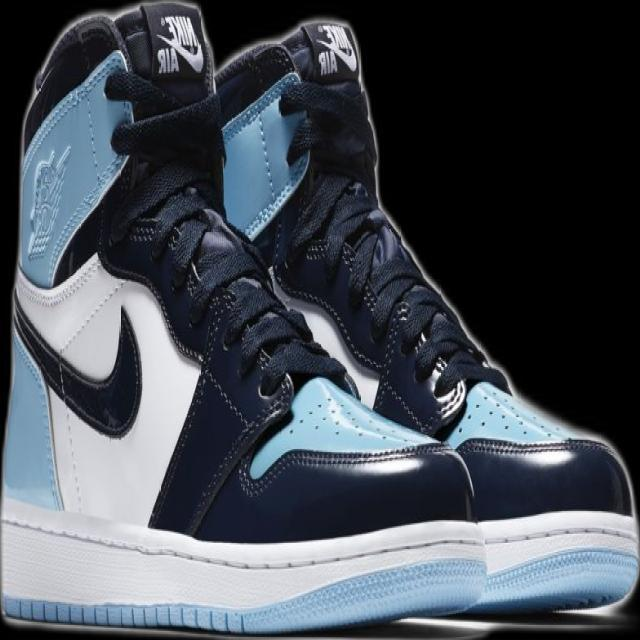J1_InsoleChar: (0, 0, 639, 637)
J1_ShoeLogo: (212, 18, 512, 439), (24, 143, 72, 261), (153, 12, 204, 75), (311, 22, 358, 76)
J1_StitchPattern: (1, 502, 638, 628), (120, 168, 352, 396), (329, 209, 505, 422), (240, 378, 471, 498), (10, 253, 144, 436), (448, 383, 614, 461), (4, 597, 241, 633), (454, 424, 623, 473), (279, 439, 458, 474), (458, 433, 616, 459), (550, 590, 621, 614)
